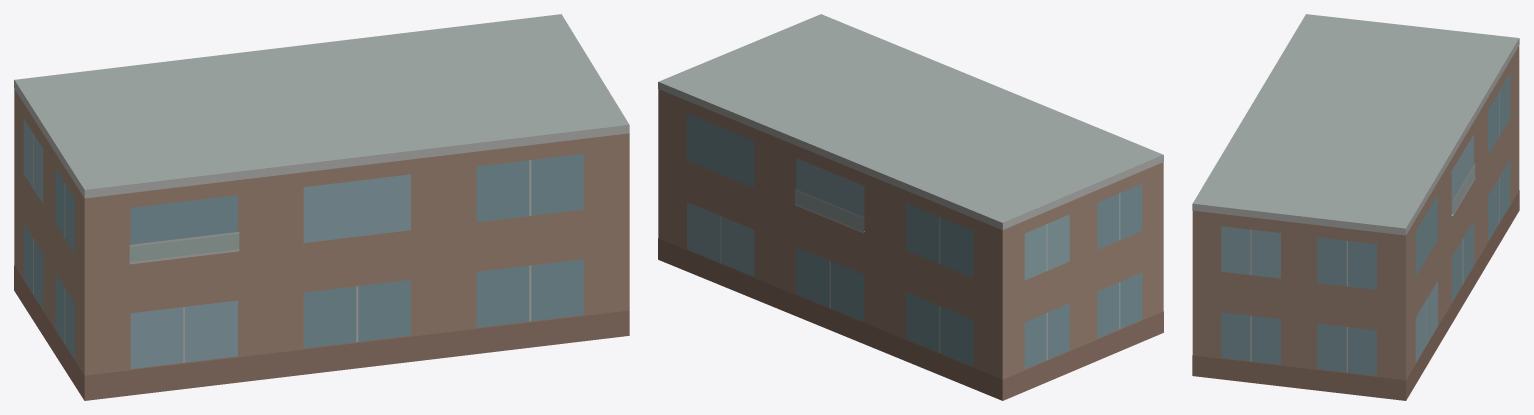
Rendered from survey-upis-32526600.glb.
3 renders of one model, left to right at view 1: azimuth 30°, elevation 25°; view 2: azimuth 150°, elevation 25°; view 3: azimuth 270°, elevation 25°, orthographic. The views are drawn at different scales.
Visible parts, largest first — view 1: survey-upis-32526600.tmp; view 2: survey-upis-32526600.tmp; view 3: survey-upis-32526600.tmp.
Part boxes in pixels (x1,y1,x2,y2): survey-upis-32526600.tmp: (14,14,629,400); survey-upis-32526600.tmp: (658,14,1163,400); survey-upis-32526600.tmp: (1192,14,1519,400).
Size of the model in its own units: 16.3 by 6.1 by 10.5.
